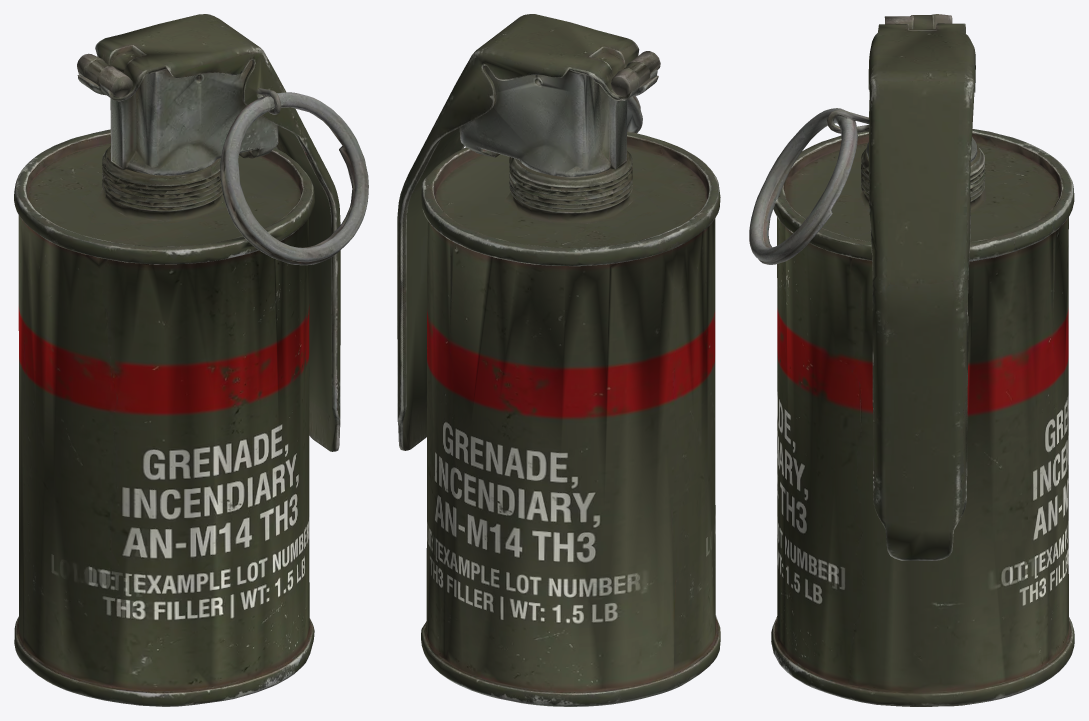
The model's file is bomba_yangin.glb.
The picture shows the model from 3 angles, left to right: view 1: azimuth 30°, elevation 25°; view 2: azimuth 150°, elevation 25°; view 3: azimuth 270°, elevation 25°; orthographic projection.
Parts seen in each view (by area): view 1: govde; view 2: govde; view 3: govde.
Part boxes in pixels (box(x1,y1,x2,y2)): govde: box(14, 14, 368, 706); govde: box(397, 14, 720, 706); govde: box(749, 14, 1074, 706).
Size of the model in its own units: 0.0706 by 0.14 by 0.0683.
1 material, 1 textured.
